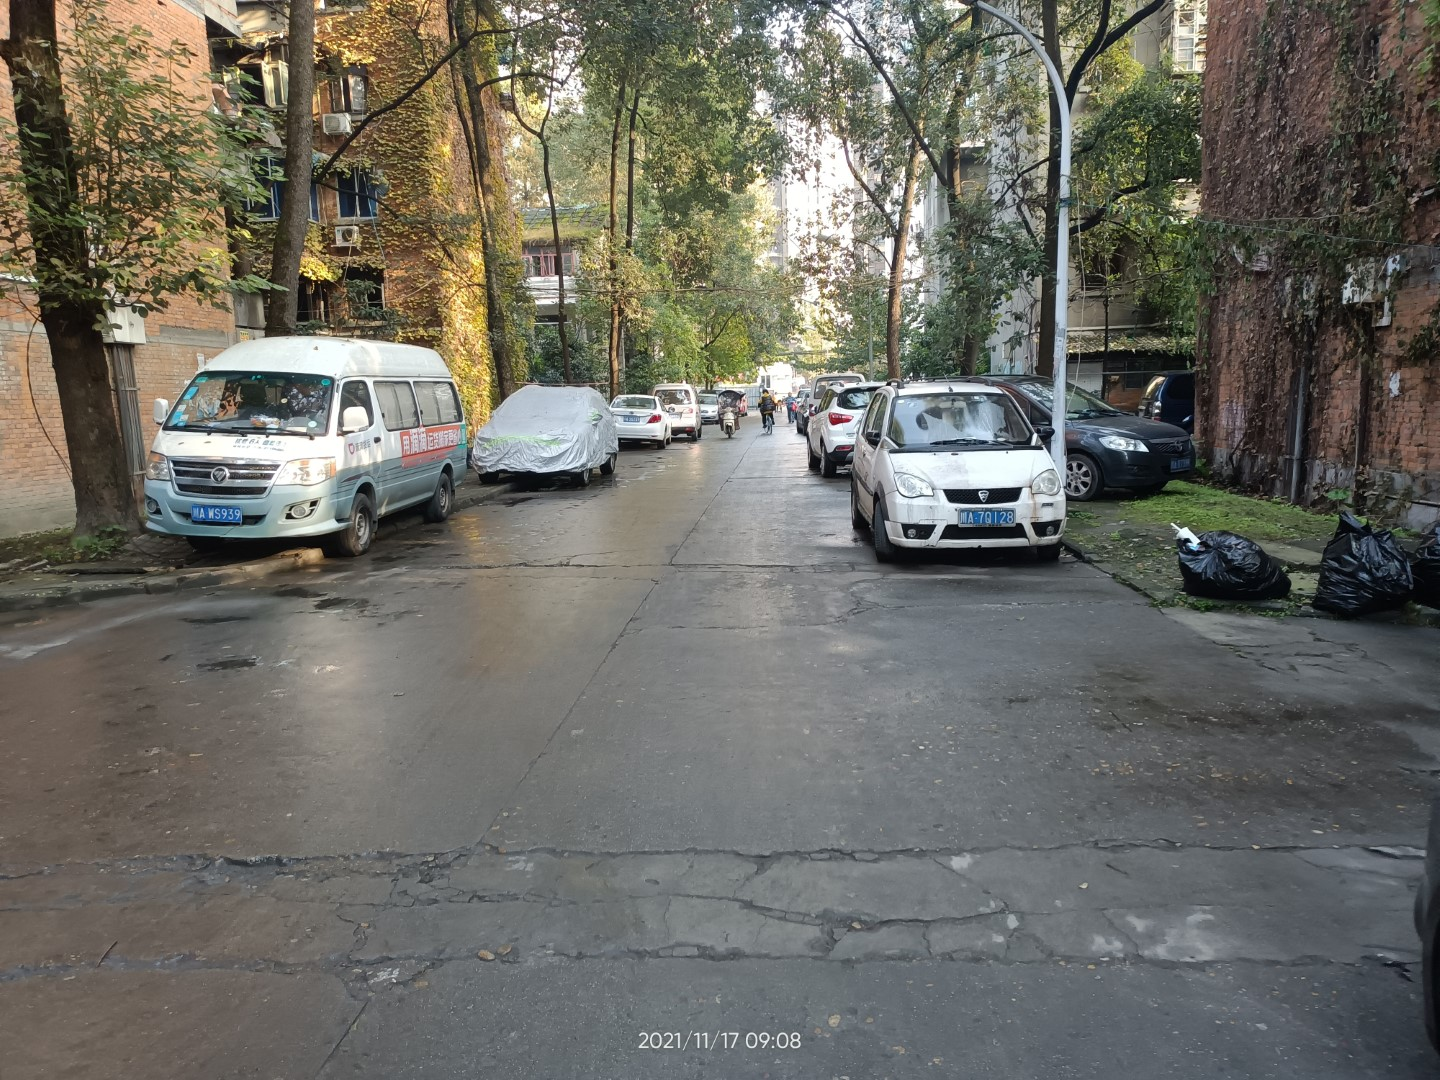plate: (190, 504, 242, 523), (959, 508, 1015, 524)
